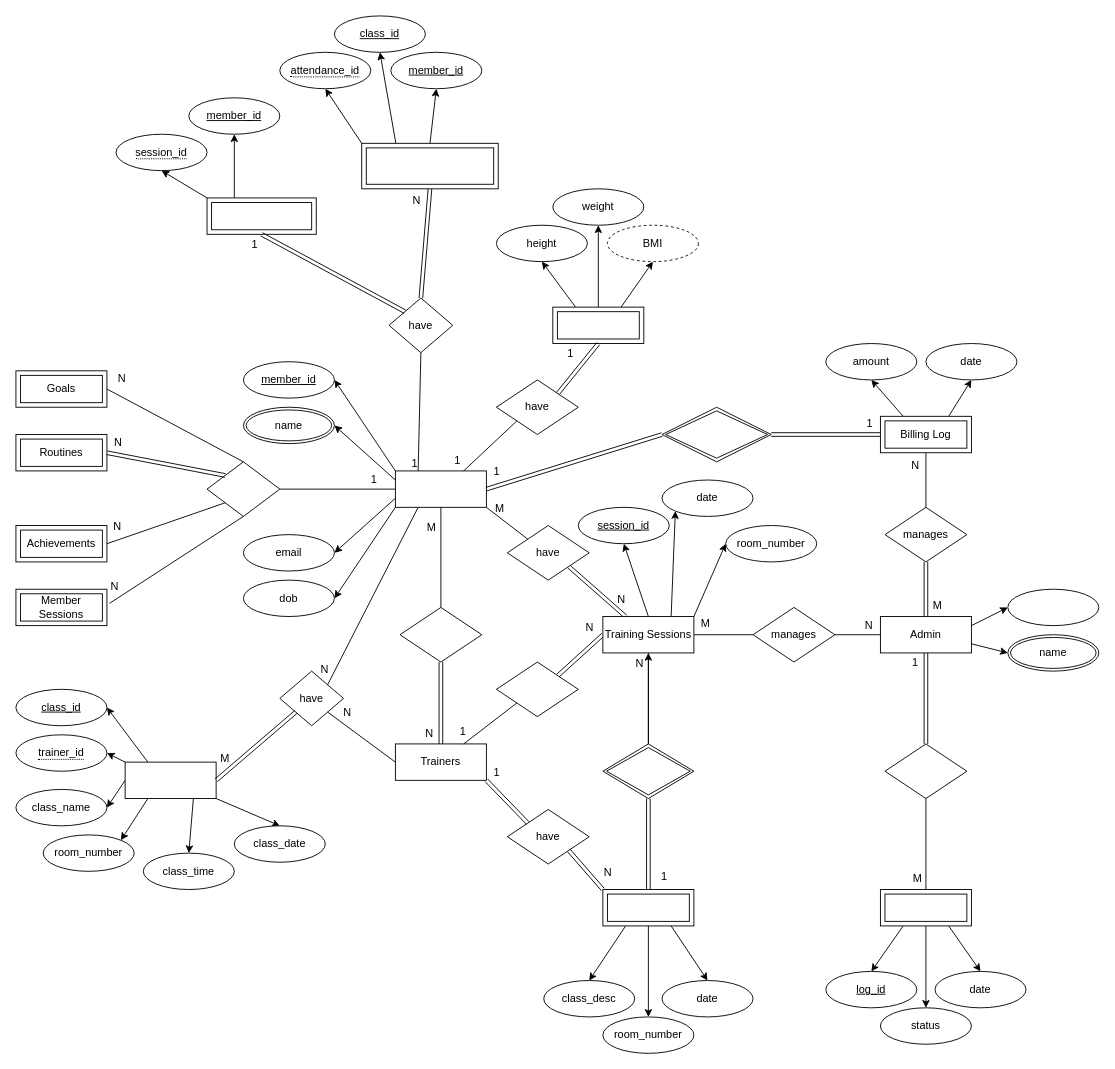
Image size: 1115x1069. Some labels were removed from this diagram. Each missing label, with the centre of its shape:
admin_id: the point at 1053,607
can view: the point at 440,634
facilitate: the point at 536,689
Group Classes: the point at 170,780
group_class_attendance: the point at 429,165
has: the point at 243,488
Maintenance Log: the point at 925,907
member_sessions: the point at 261,215
Members: the point at 440,488
Metrics: the point at 598,325
monitors: the point at 925,771
pays: the point at 716,434
populates: the point at 648,771
Schedule Log: the point at 648,907
